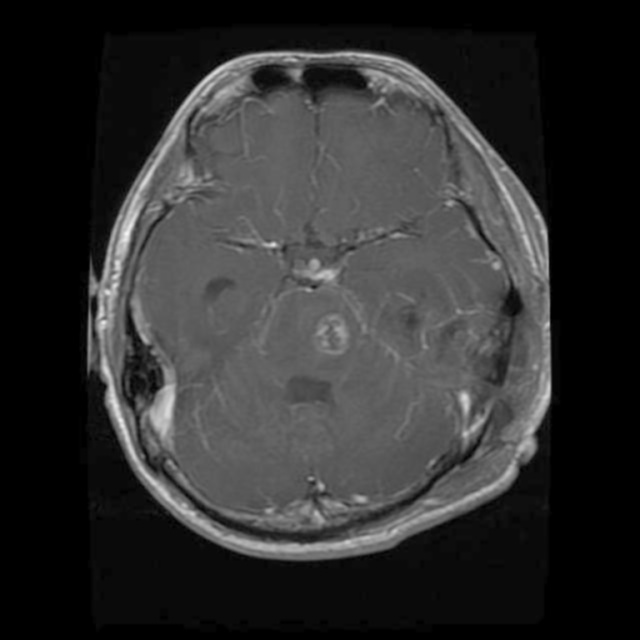pituitary tumor: (308, 318, 352, 350)
